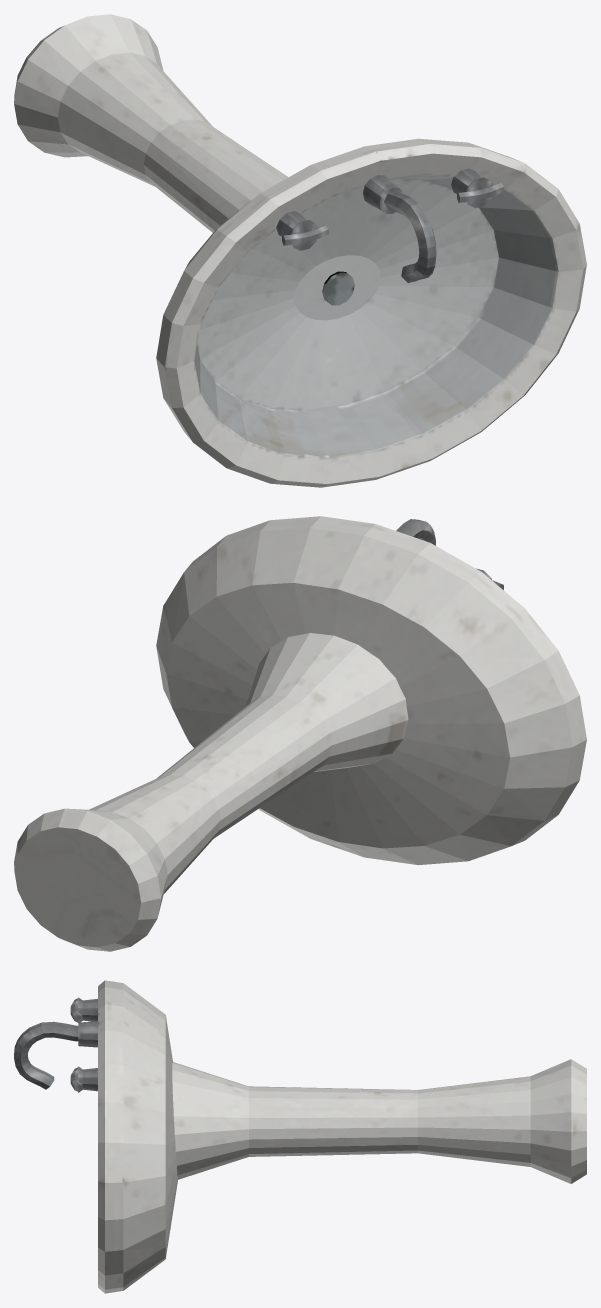
The model's file is pz_sink_white_standing.obj.
3 views of the same model, one above another, from view 1: azimuth 30°, elevation 25°; view 2: azimuth 150°, elevation 25°; view 3: azimuth 270°, elevation 25° (orthographic). The views are drawn at different scales.
Parts seen in each view (by area): view 1: pz_sink_white_standing_|_open_rounded_ceramic_bowl, pz_sink_white_standing_|_tapered_rounded_pedestal, pz_sink_white_standing_|_EDITABLE_curved_spout_|_export_mesh, pz_sink_white_standing_|_faucet_socket, pz_sink_white_standing_|_drain_disc, pz_sink_white_standing_|_tap_stem_0.145, pz_sink_white_standing_|_tap_stem_-0.145; view 2: pz_sink_white_standing_|_open_rounded_ceramic_bowl, pz_sink_white_standing_|_tapered_rounded_pedestal, pz_sink_white_standing_|_EDITABLE_curved_spout_|_export_mesh; view 3: pz_sink_white_standing_|_tapered_rounded_pedestal, pz_sink_white_standing_|_open_rounded_ceramic_bowl, pz_sink_white_standing_|_EDITABLE_curved_spout_|_export_mesh, pz_sink_white_standing_|_faucet_socket, pz_sink_white_standing_|_tap_stem_0.145, pz_sink_white_standing_|_tap_stem_-0.145.
Part boxes in pixels (left/top/right/bottom): pz_sink_white_standing_|_open_rounded_ceramic_bowl: left=156, top=138, right=586, bottom=487; pz_sink_white_standing_|_tapered_rounded_pedestal: left=14, top=14, right=288, bottom=232; pz_sink_white_standing_|_EDITABLE_curved_spout_|_export_mesh: left=384, top=191, right=436, bottom=282; pz_sink_white_standing_|_faucet_socket: left=363, top=175, right=403, bottom=213; pz_sink_white_standing_|_drain_disc: left=322, top=271, right=354, bottom=305; pz_sink_white_standing_|_tap_stem_0.145: left=451, top=168, right=492, bottom=208; pz_sink_white_standing_|_tap_stem_-0.145: left=276, top=211, right=317, bottom=250; pz_sink_white_standing_|_open_rounded_ceramic_bowl: left=156, top=516, right=586, bottom=865; pz_sink_white_standing_|_tapered_rounded_pedestal: left=14, top=633, right=408, bottom=951; pz_sink_white_standing_|_EDITABLE_curved_spout_|_export_mesh: left=396, top=519, right=435, bottom=545; pz_sink_white_standing_|_tapered_rounded_pedestal: left=172, top=1059, right=586, bottom=1183; pz_sink_white_standing_|_open_rounded_ceramic_bowl: left=98, top=980, right=177, bottom=1293; pz_sink_white_standing_|_EDITABLE_curved_spout_|_export_mesh: left=14, top=1021, right=78, bottom=1089; pz_sink_white_standing_|_faucet_socket: left=78, top=1021, right=97, bottom=1047; pz_sink_white_standing_|_tap_stem_0.145: left=78, top=1066, right=97, bottom=1092; pz_sink_white_standing_|_tap_stem_-0.145: left=78, top=997, right=97, bottom=1022.
Bounding box in the file's own units: 0.7 × 0.52 × 1.02.
1 material, 1 textured.
